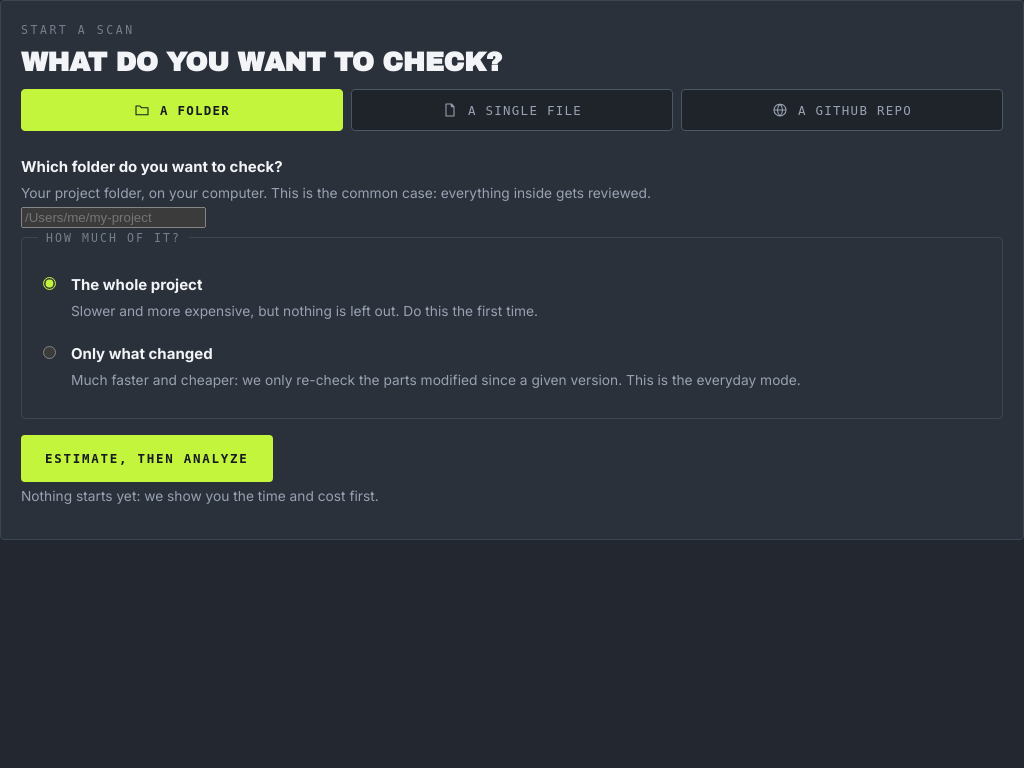
ScanLauncher › refuse de lancer sans cible, et explique pourquoi
What coordinates should you click on to do the following:
click the button "Estimate, then analyze"
I would click on:
 (147, 458)
Its box is [21,435,273,482].
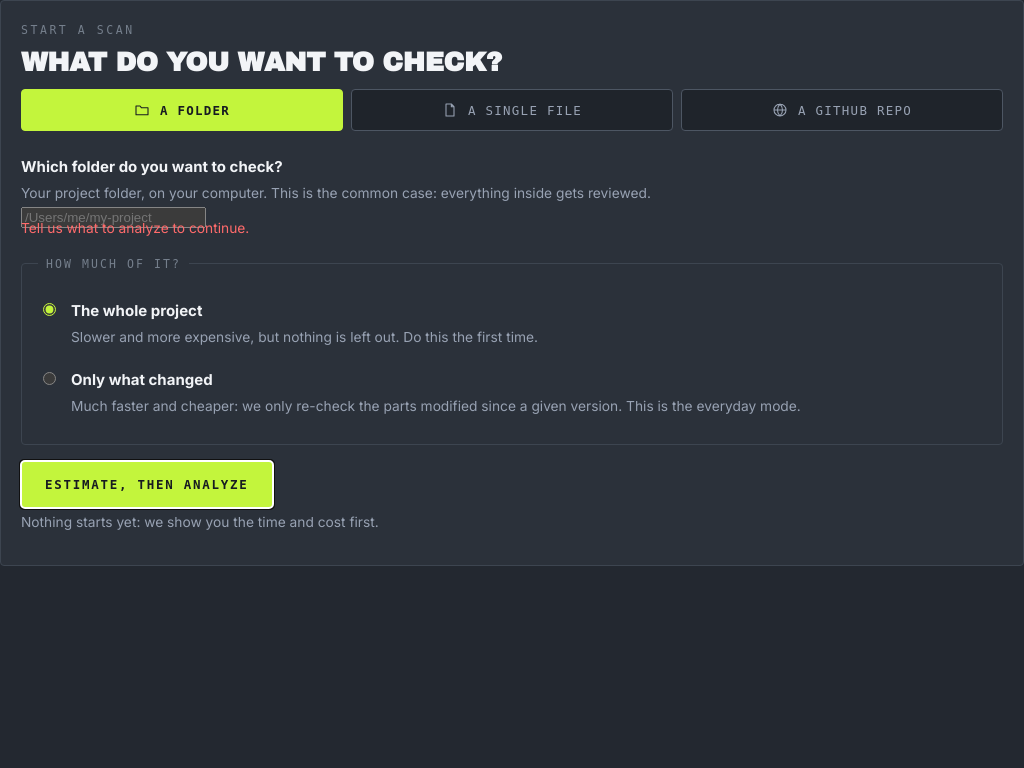
Expected: the message shows "Tell us what to analyze", [21,220,249,236]
